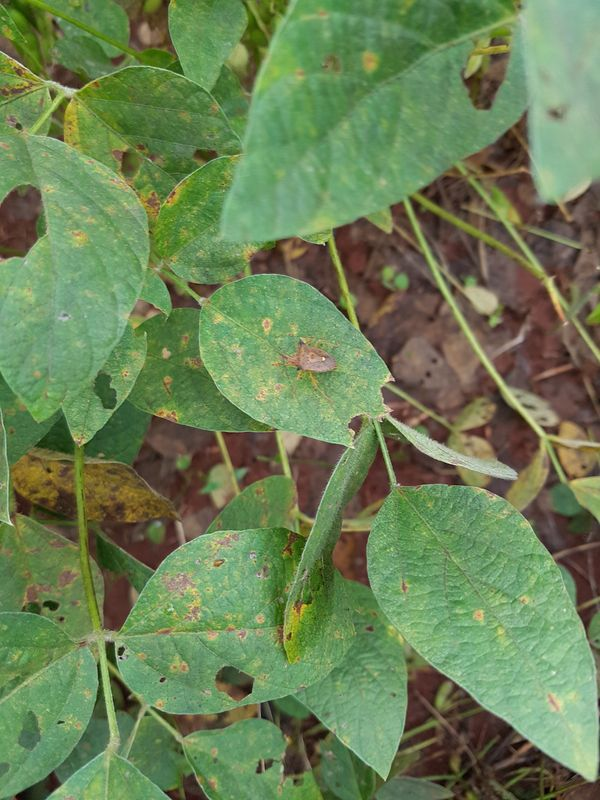Euschistus_heros_adulto: (274, 334, 343, 388)
